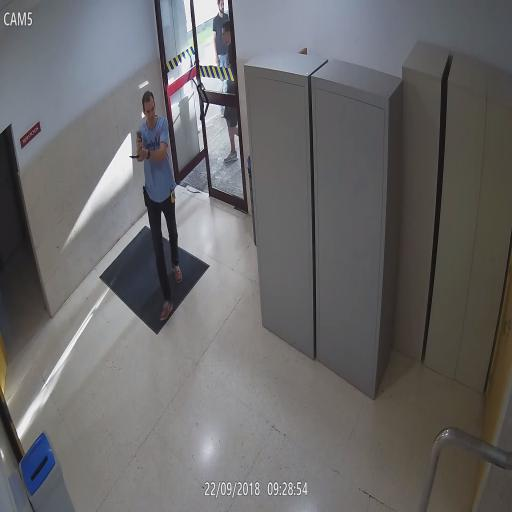Handgun: (135, 128, 143, 148)
